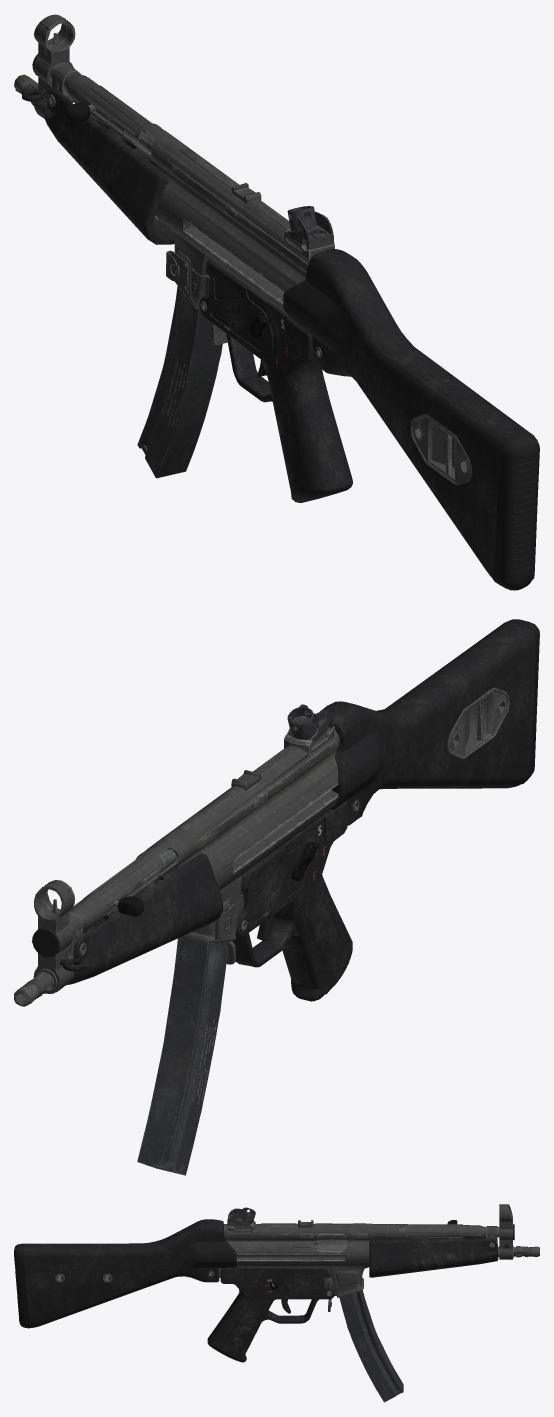
File: smg.glb
3 renders of one model, top to bottom at view 1: azimuth 30°, elevation 25°; view 2: azimuth 150°, elevation 25°; view 3: azimuth 270°, elevation 25°, orthographic. The views are drawn at different scales.
Visible parts, largest first — view 1: smg_Gun, smg_GunFull, smg_Magazine; view 2: smg_Gun, smg_GunFull, smg_Magazine; view 3: smg_Gun, smg_GunFull, smg_Magazine.
Boxes of the visible parts, box(x1,y1,x2,y2) form: smg_Gun: box(14, 14, 539, 590); smg_GunFull: box(14, 14, 539, 590); smg_Magazine: box(137, 286, 218, 477); smg_Gun: box(14, 619, 539, 1006); smg_GunFull: box(14, 619, 539, 1175); smg_Magazine: box(137, 942, 227, 1175); smg_Gun: box(14, 1204, 539, 1362); smg_GunFull: box(14, 1204, 539, 1402); smg_Magazine: box(342, 1291, 403, 1401).
Size of the model in its own units: 0.0612 by 0.2766 by 0.68.
5 materials, 5 textured.
